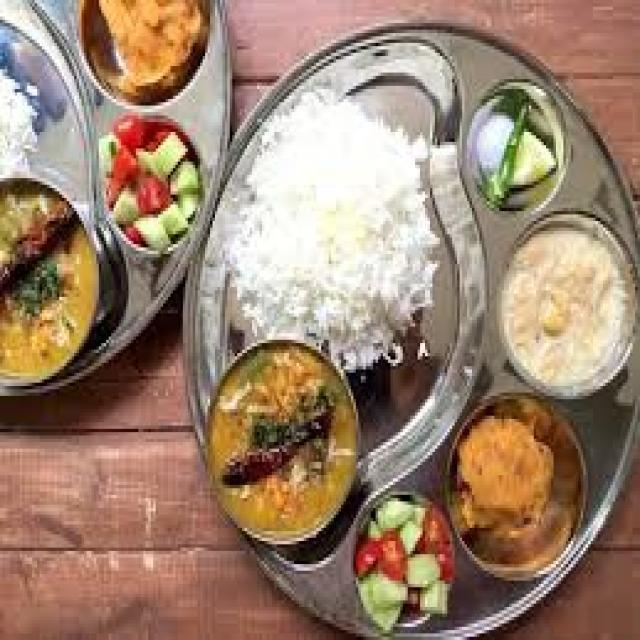dal: (495, 226, 632, 398), (6, 193, 103, 397)
rice: (235, 101, 434, 358), (1, 61, 39, 186)
sweet: (212, 342, 358, 543), (66, 0, 214, 101)
